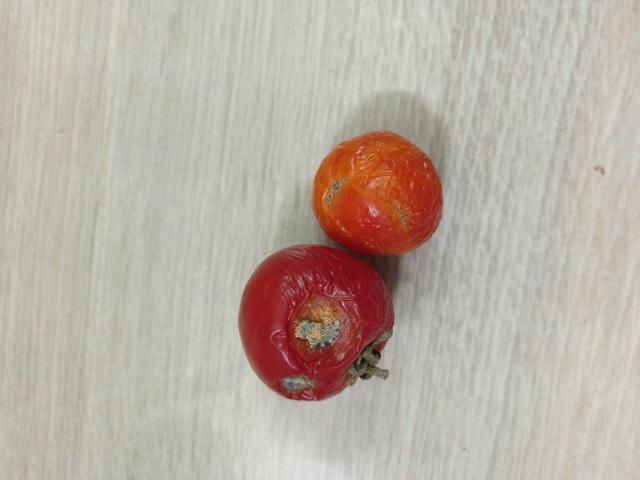defect: (235, 242, 399, 404), (308, 128, 447, 260)
